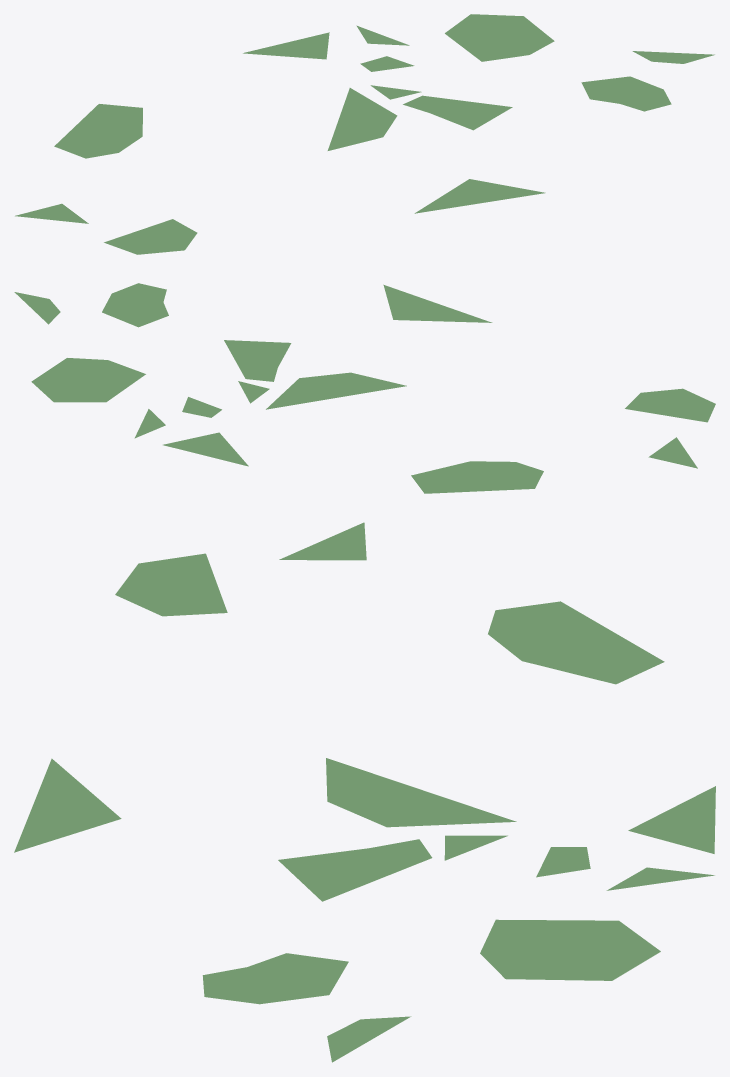
Rendered from TreesMesh.fbx.
3 views of the same model, one above another, from view 1: azimuth 30°, elevation 25°; view 2: azimuth 150°, elevation 25°; view 3: azimuth 270°, elevation 25° (orthographic). The views are drawn at different scales.
Parts seen in each view (by area): view 1: Mapa1; view 2: Mapa1; view 3: Mapa1.
Part boxes in pixels (bbox=[...]): Mapa1: bbox=[15, 14, 714, 254]; Mapa1: bbox=[14, 283, 715, 493]; Mapa1: bbox=[14, 522, 715, 1062].
Size of the model in its own units: 20579 by 0.00128 by 11295.
